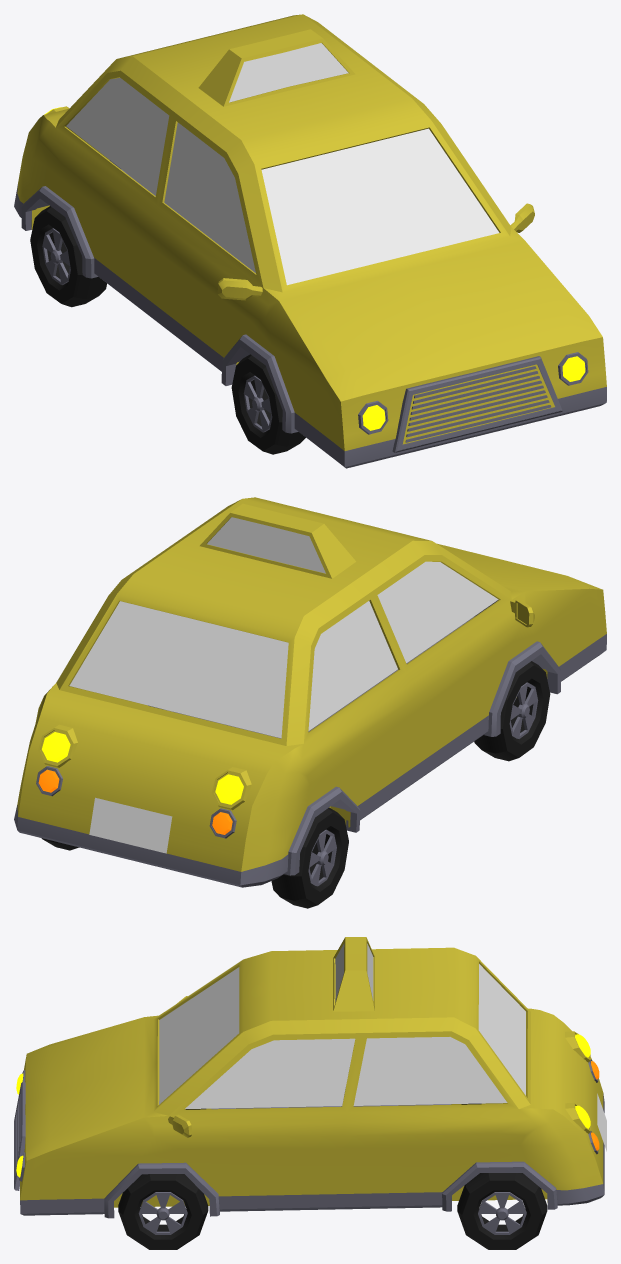
Rendered from Taxi low poly.fbx.
3 renders of one model, top to bottom at view 1: azimuth 30°, elevation 25°; view 2: azimuth 150°, elevation 25°; view 3: azimuth 270°, elevation 25°, orthographic. The views are drawn at different scales.
Parts seen in each view (by area): view 1: Cube, Wheel; view 2: Cube, Wheel; view 3: Cube, Wheel.
Boxes of the visible parts, x1,y1,x2,y2 form: Cube: (14, 14, 606, 468); Wheel: (30, 206, 305, 454); Cube: (14, 497, 606, 887); Wheel: (41, 661, 550, 908); Cube: (14, 937, 606, 1218); Wheel: (118, 1103, 547, 1249).
Size of the model in its own units: 559 by 492 by 1081.
